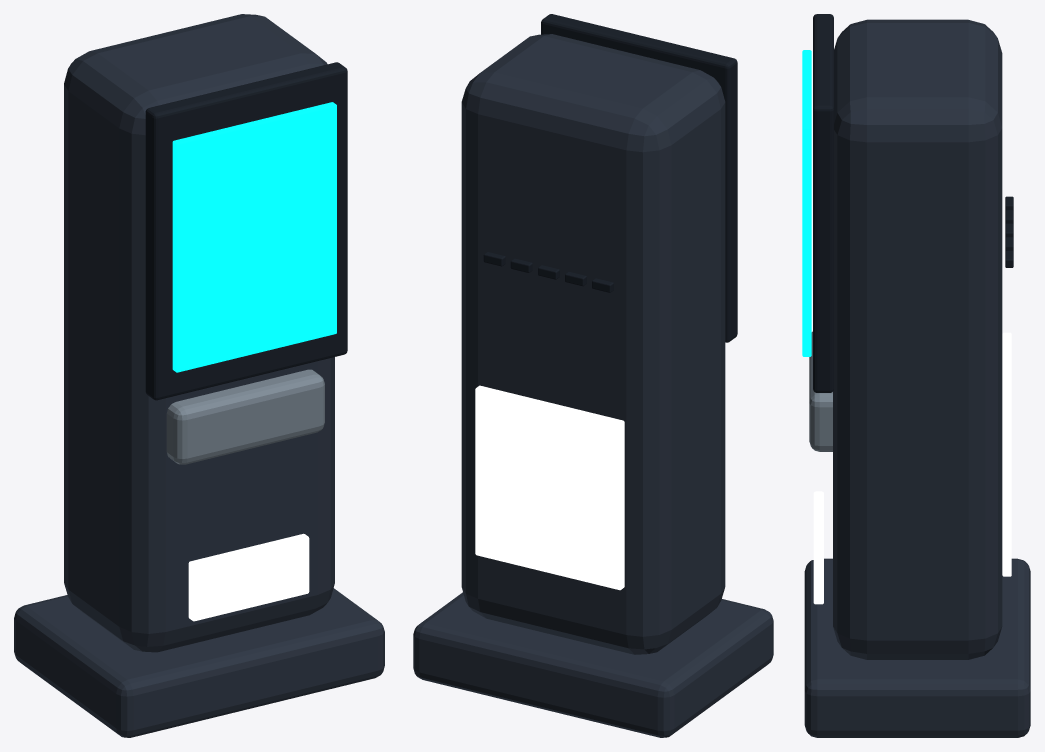
File: prop_public_screen_stand_a_v01.glb
3 renders of one model, left to right at view 1: azimuth 30°, elevation 25°; view 2: azimuth 150°, elevation 25°; view 3: azimuth 270°, elevation 25°, orthographic. The views are drawn at different scales.
Visible parts, largest first — view 1: component__structural_body__structural_body, component__screen__screen, component__anchored_base__anchored_base, component__protective_bezel__protective_bezel, component__input_area__input_area, component__structural_body__identity_plate; view 2: component__structural_body__structural_body, component__anchored_base__anchored_base, component__service_panel__service_panel, component__protective_bezel__protective_bezel; view 3: component__structural_body__structural_body, component__anchored_base__anchored_base, component__protective_bezel__protective_bezel, component__screen__screen, component__service_panel__service_panel, component__input_area__input_area, component__structural_body__identity_plate.
Part boxes in pixels (x1,y1,x2,y2): component__structural_body__structural_body: [64, 14, 334, 652]; component__screen__screen: [172, 102, 336, 372]; component__anchored_base__anchored_base: [14, 588, 384, 737]; component__protective_bezel__protective_bezel: [145, 62, 347, 400]; component__input_area__input_area: [166, 369, 324, 464]; component__structural_body__identity_plate: [188, 533, 309, 621]; component__structural_body__structural_body: [461, 34, 725, 654]; component__anchored_base__anchored_base: [413, 592, 773, 737]; component__service_panel__service_panel: [475, 385, 624, 590]; component__protective_bezel__protective_bezel: [541, 14, 737, 342]; component__structural_body__structural_body: [833, 19, 1002, 659]; component__anchored_base__anchored_base: [804, 558, 1030, 737]; component__protective_bezel__protective_bezel: [813, 14, 833, 392]; component__screen__screen: [802, 50, 811, 356]; component__service_panel__service_panel: [1002, 332, 1011, 576]; component__input_area__input_area: [809, 331, 832, 451]; component__structural_body__identity_plate: [813, 491, 823, 604].
Size of the model in its own units: 0.72 by 1.59 by 0.5335.
